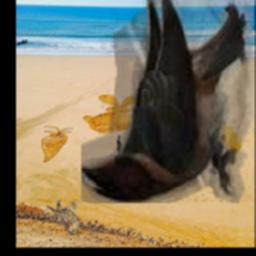Sparrow: (47, 201, 80, 236)
Swallow: (80, 0, 253, 204)
